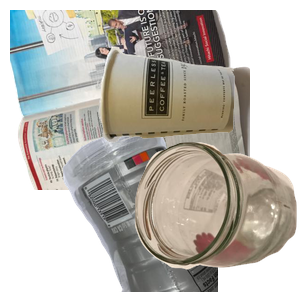glass: (132, 139, 300, 300)
paper: (10, 10, 250, 190)
plastic: (60, 120, 300, 300)
trash: (95, 44, 300, 180)
